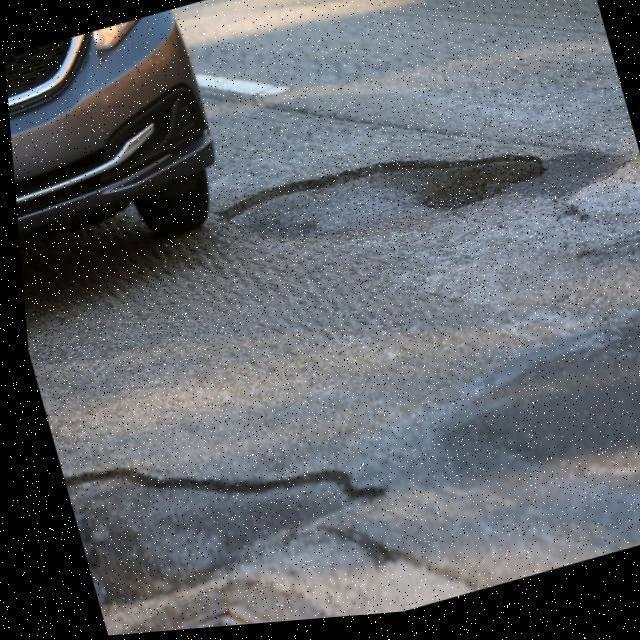Pothole: (57, 476, 375, 614), (222, 160, 545, 245)
